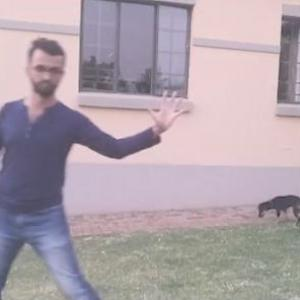follow_hand: (144, 85, 187, 132)
